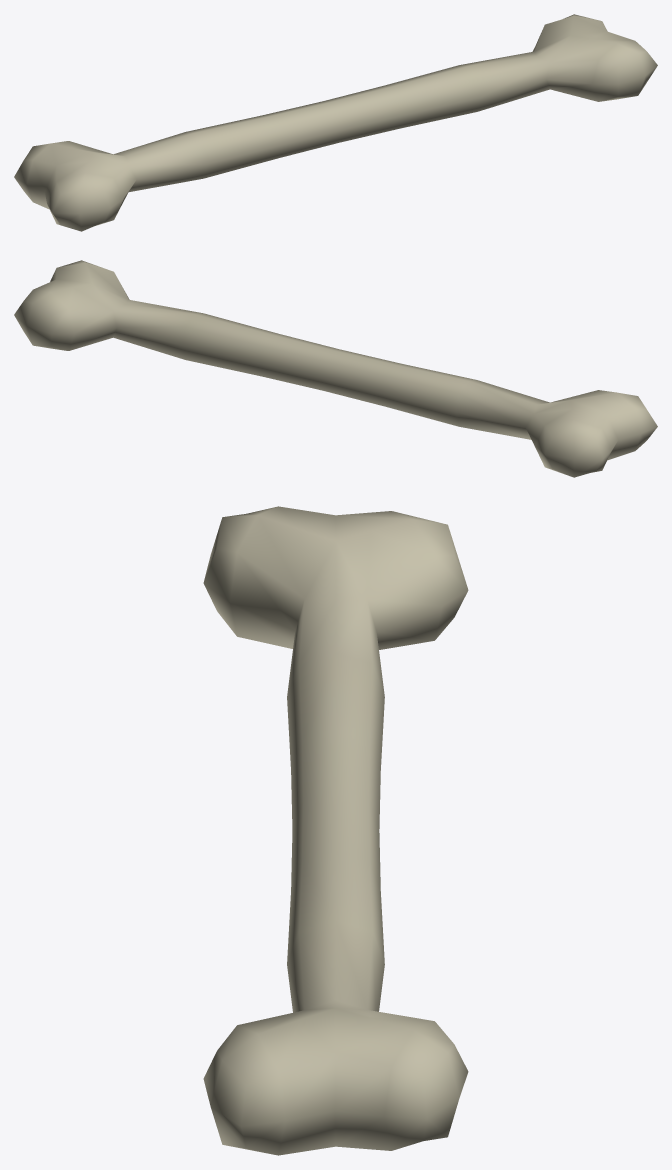
The model's file is Bone2.fbx.
The picture shows the model from 3 angles, top to bottom: view 1: azimuth 30°, elevation 25°; view 2: azimuth 150°, elevation 25°; view 3: azimuth 270°, elevation 25°; orthographic projection. The views are drawn at different scales.
Visible parts, largest first — view 1: polySurface66; view 2: polySurface66; view 3: polySurface66.
Boxes of the visible parts, x1,y1,x2,y2 form: polySurface66: [14, 14, 657, 231]; polySurface66: [14, 260, 657, 477]; polySurface66: [203, 506, 468, 1155].
Size of the model in its own units: 3.12 by 0.2769 by 0.5914.
